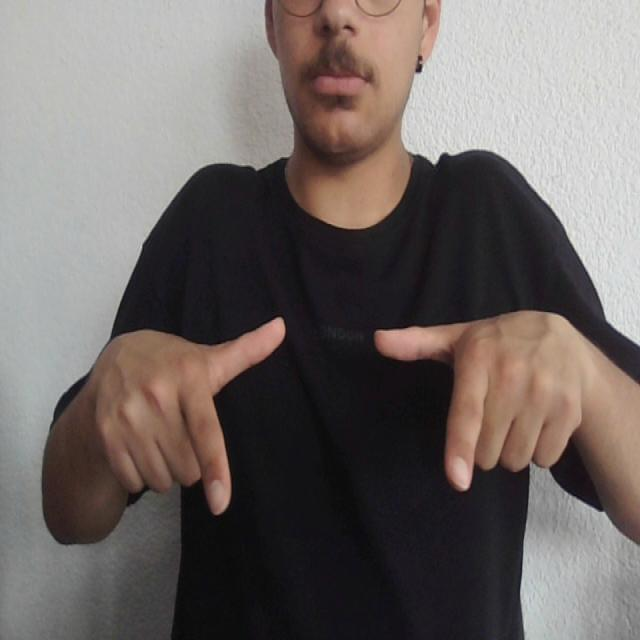Nerede: (180, 308, 489, 520)
